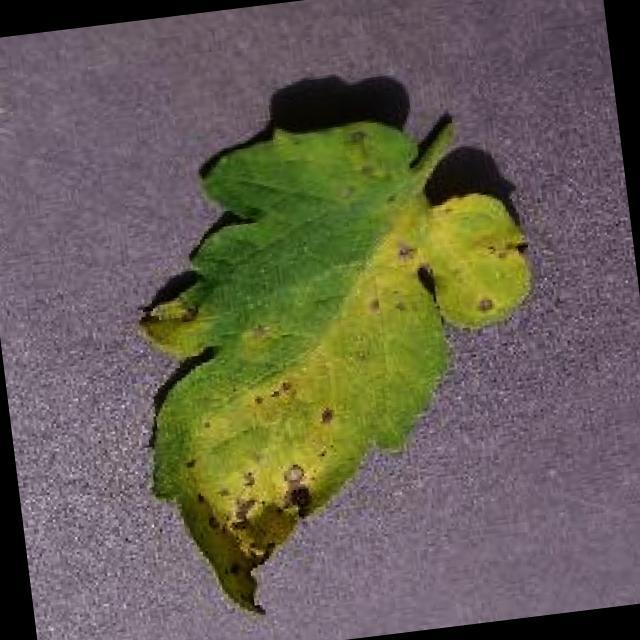Tomato Septoria spot leaf: (107, 90, 570, 624)
